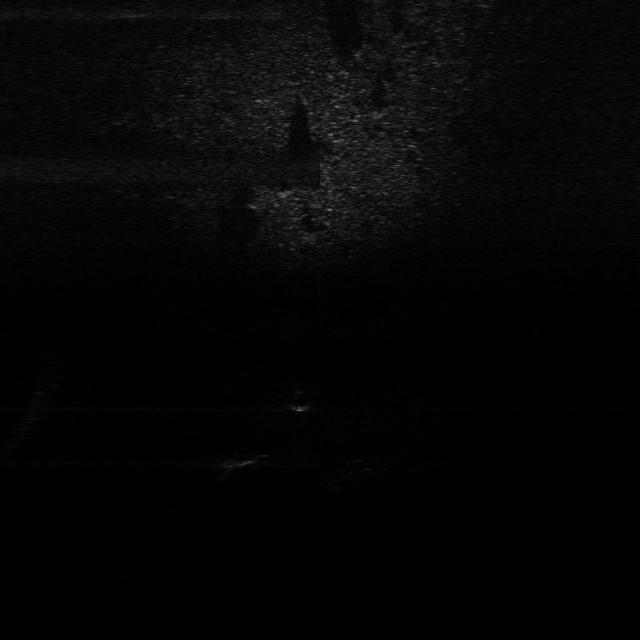ball: (289, 389, 322, 411)
square cage: (211, 450, 278, 473)
tyre: (328, 456, 392, 498)
